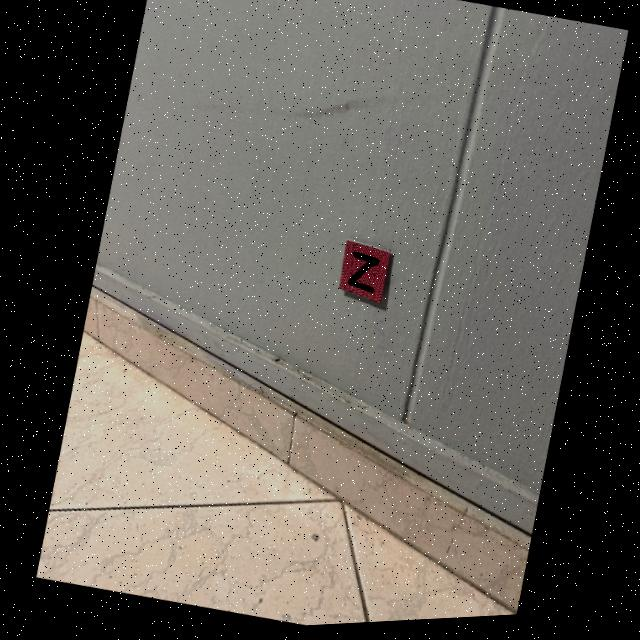Z: (346, 256, 377, 296)
